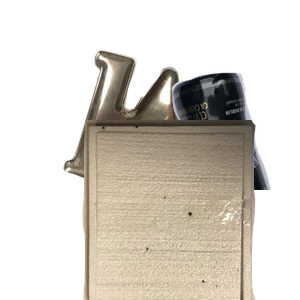glass: (106, 70, 300, 250)
metal: (60, 47, 300, 227)
plastic: (94, 120, 267, 300)
trash: (80, 120, 300, 300)
